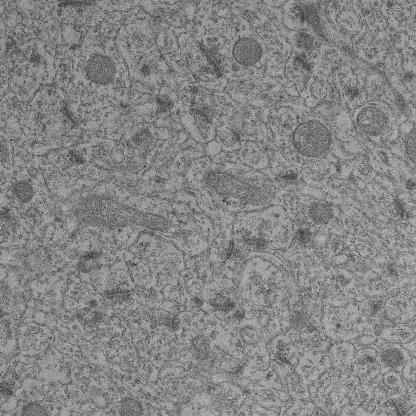mitochondria: (81, 195, 170, 235), (200, 168, 265, 208), (287, 119, 332, 157), (81, 51, 117, 87), (352, 105, 390, 136), (229, 36, 264, 66), (303, 199, 334, 225), (7, 179, 35, 203), (376, 345, 405, 368)
